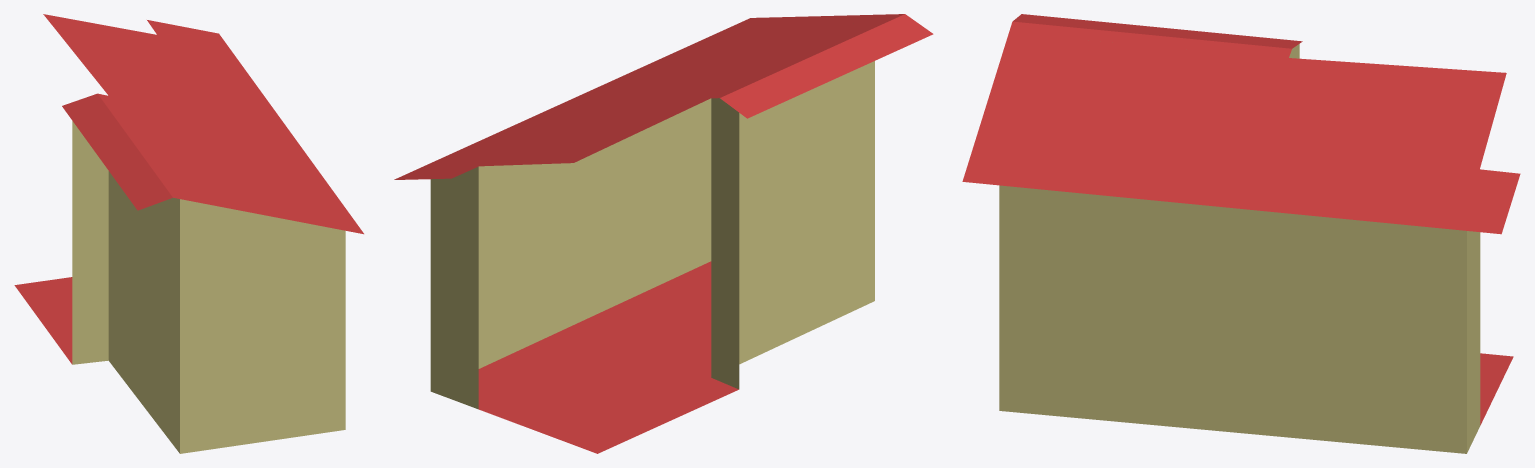
3 renders of one model, left to right at view 1: azimuth 30°, elevation 25°; view 2: azimuth 150°, elevation 25°; view 3: azimuth 270°, elevation 25°, orthographic. The views are drawn at different scales.
Size of the model in its own units: 7.99 by 11.68 by 6.9.
